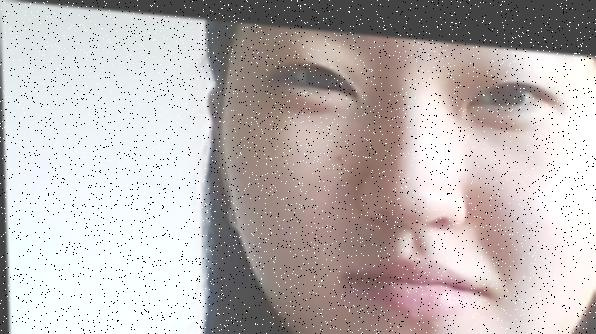eye: (492, 70, 522, 98), (309, 58, 339, 85)
iris: (468, 69, 537, 100), (287, 56, 352, 88)
